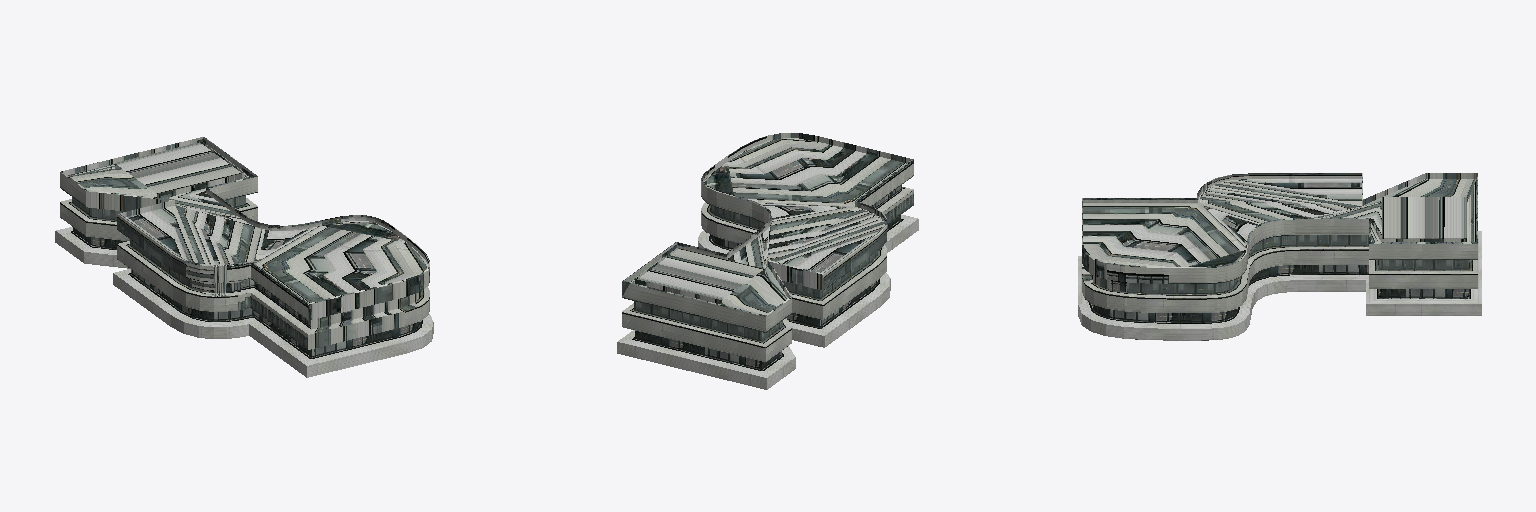
3 views of the same model, side by side, from view 1: azimuth 30°, elevation 25°; view 2: azimuth 150°, elevation 25°; view 3: azimuth 270°, elevation 25° (orthographic).
Parts seen in each view (by area): view 1: block4; view 2: block4; view 3: block4.
Boxes of the visible parts, <box> form: block4: <box>55,137,433,377</box>; block4: <box>617,133,918,389</box>; block4: <box>1078,173,1481,340</box>.
Bounding box in the file's own units: 18.75 × 6.47 × 32.81.
1 materials, 1 textured.